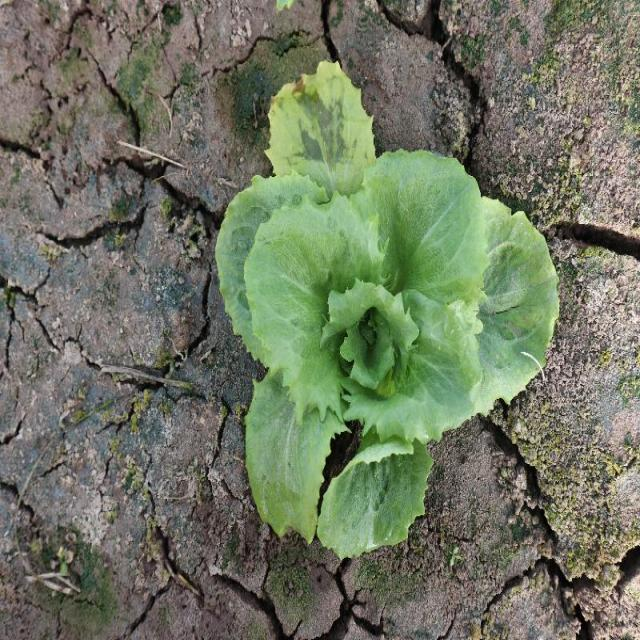crop: (216, 148, 562, 559)
